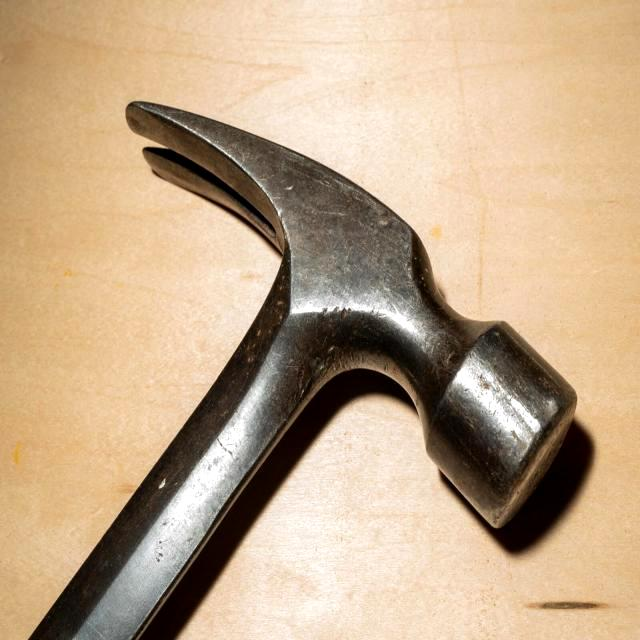hammer: (19, 94, 590, 640)
